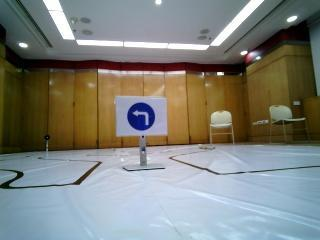left: (120, 96, 168, 132)
